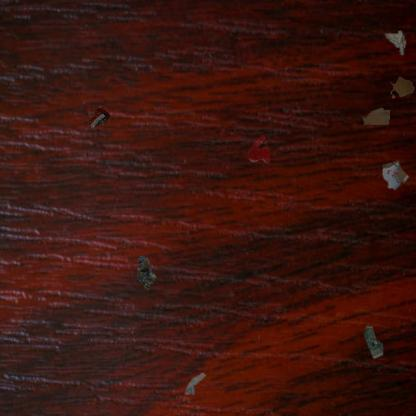dirty: (381, 158, 411, 192), (362, 324, 386, 361), (136, 254, 158, 291), (85, 104, 113, 132), (384, 29, 408, 57), (184, 371, 206, 397), (361, 108, 390, 125)
liquid: (246, 134, 272, 165), (390, 76, 416, 100)
